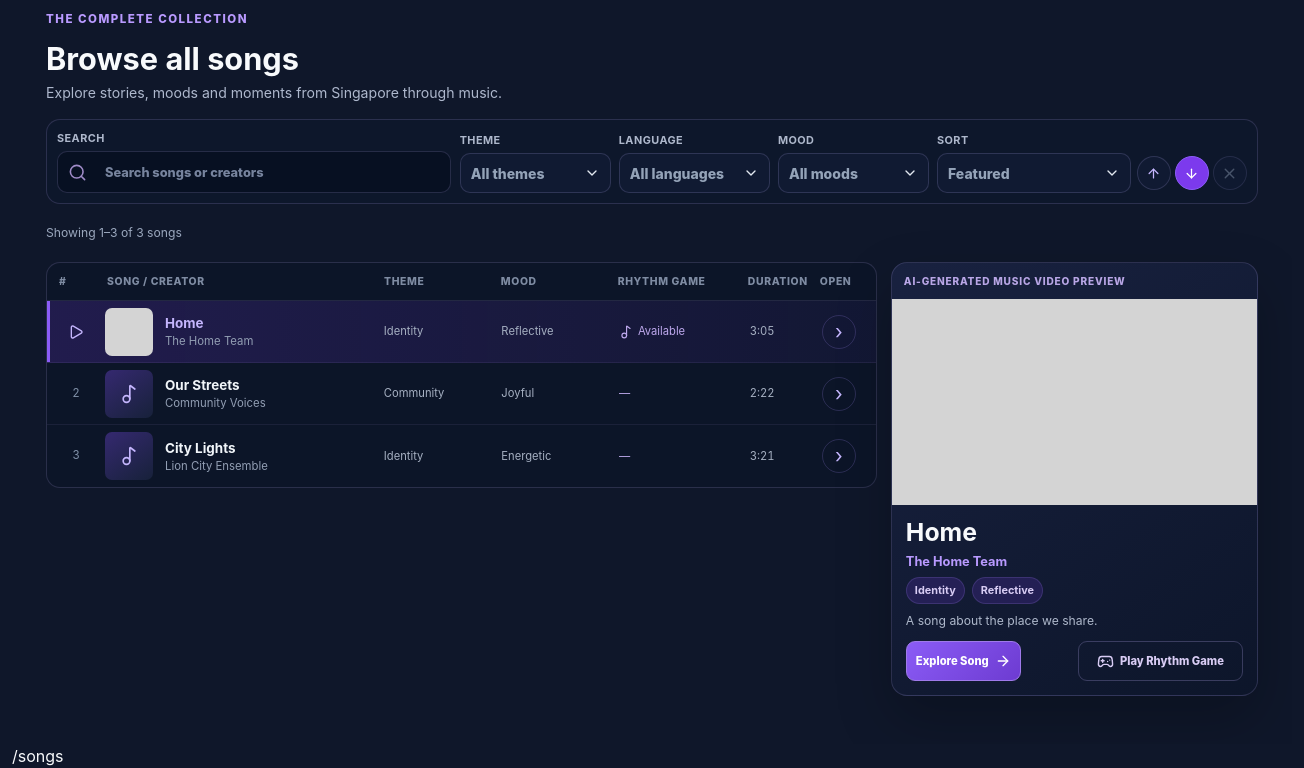
Test case: Songs Library › shows the rhythm action only for a published beatmap
(page scrolled)
Click the button named "Select Our Streets preview".
click(436, 394)  # box [51,367,821,420]
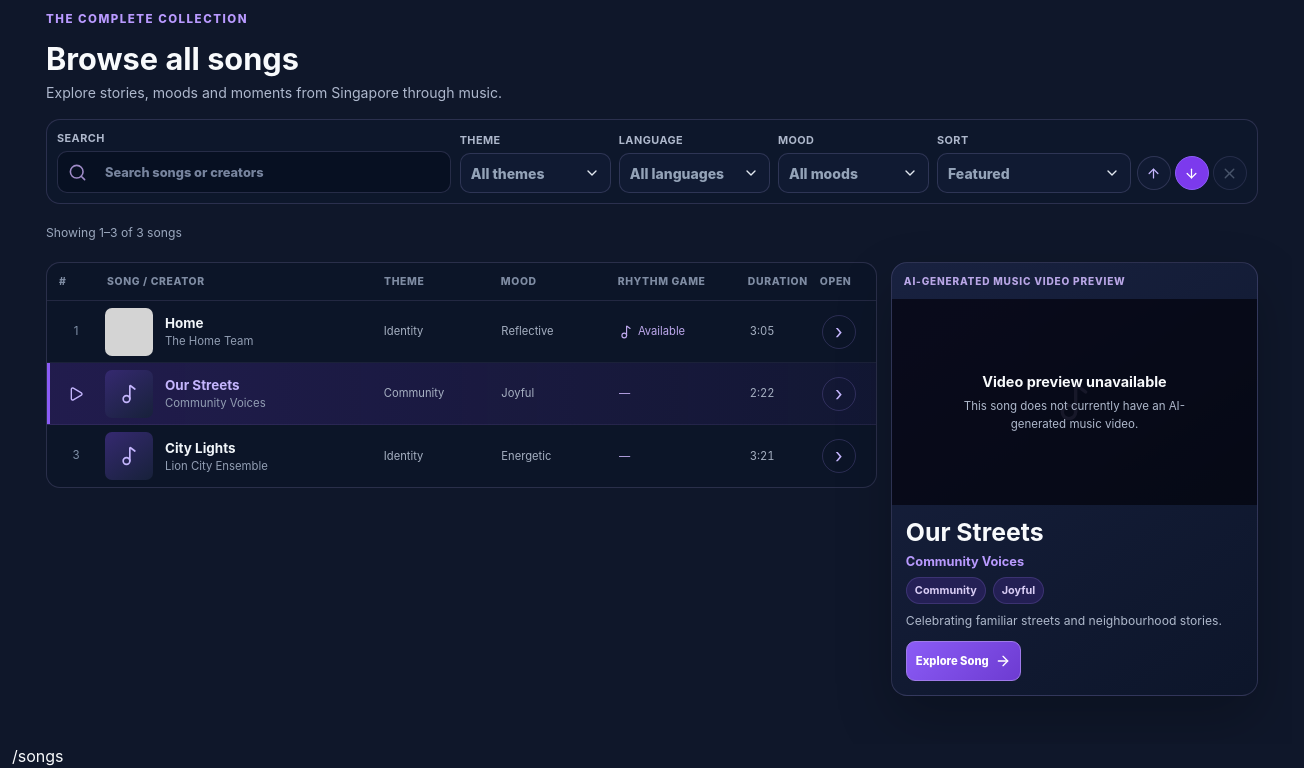
Expected: the link "Play Rhythm Game" is gone
